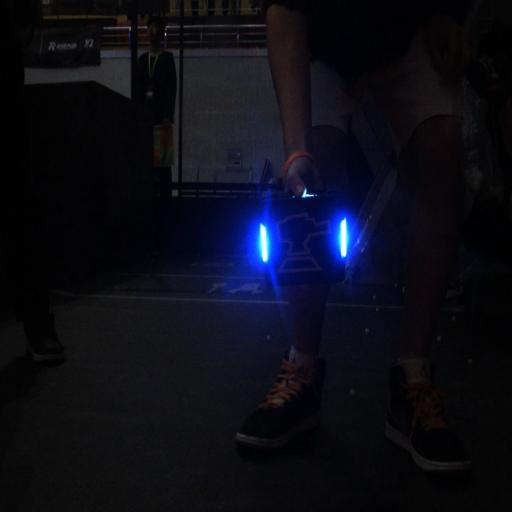target: (258, 208, 351, 282)
